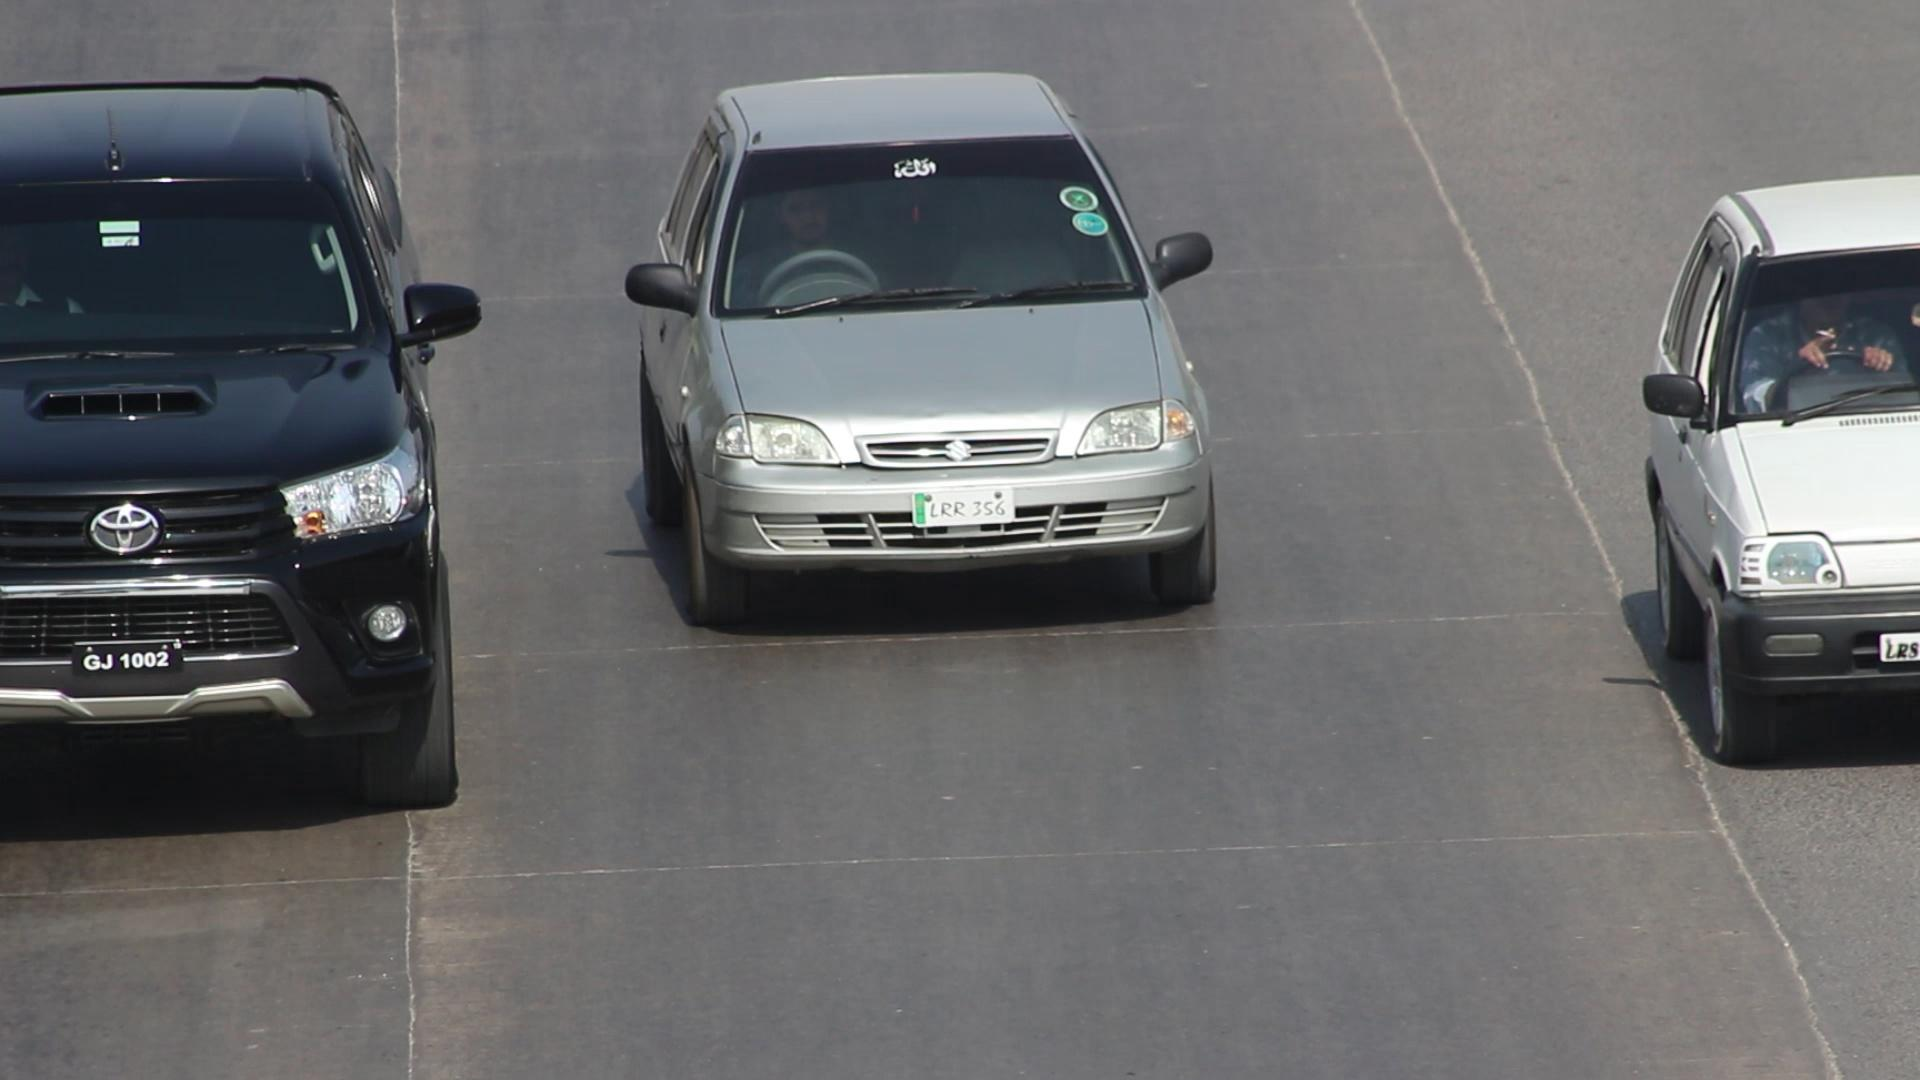windshield: (707, 116, 1164, 334)
